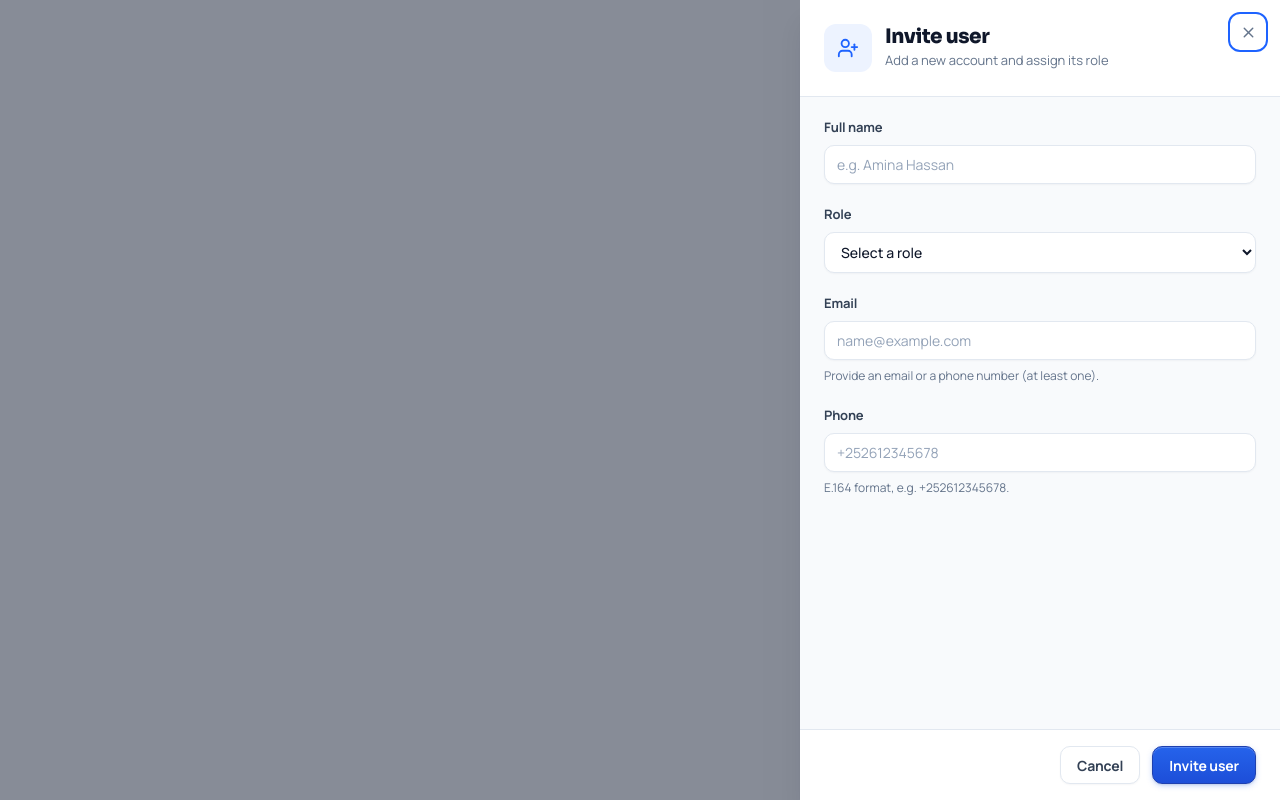
Test case: InviteUserForm › shows field-level validation errors and does not submit when required fields are missing
This screenshot has width=1280, height=800.
Click the button "Invite user" at (1204, 765), box 1152,746 -> 1256,784
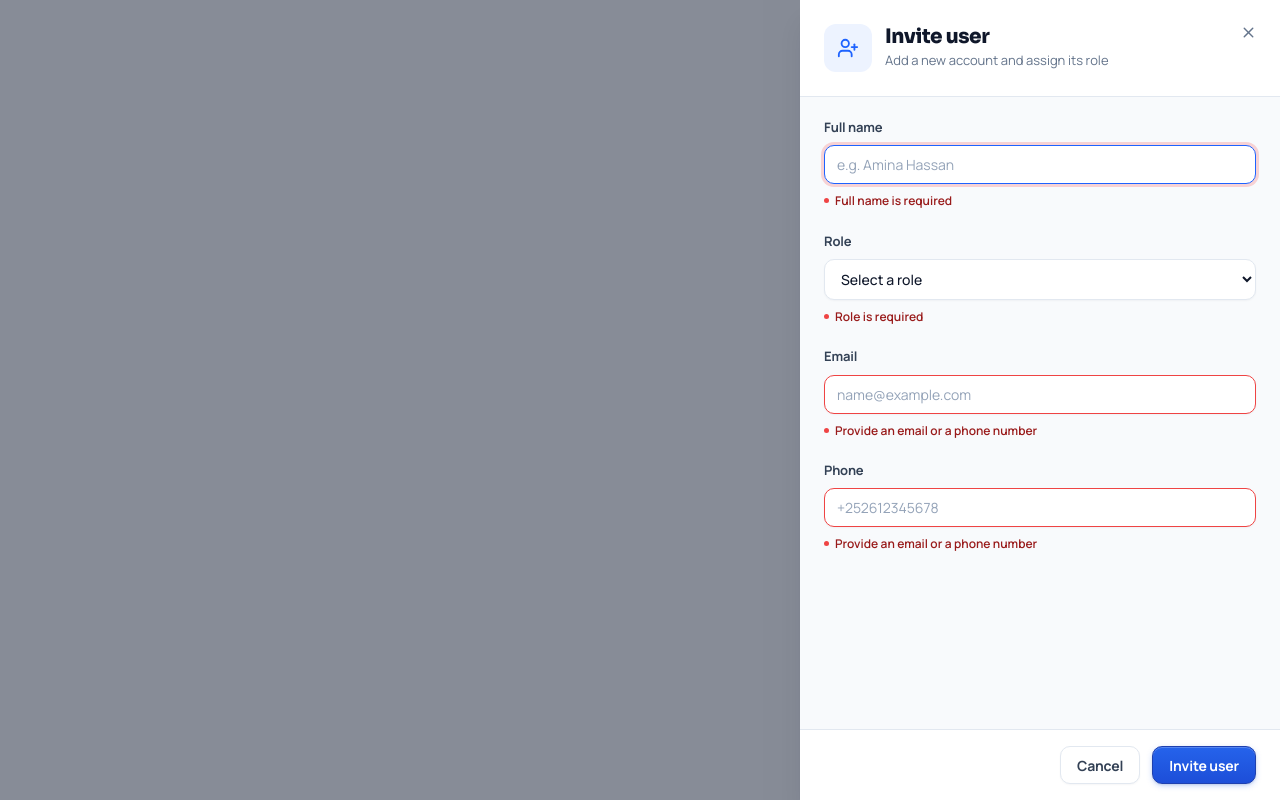
Expected: the text "Full name is required" is shown, 835,192 -> 952,209
Expected: the text "Role is required" is shown, 835,308 -> 923,325
